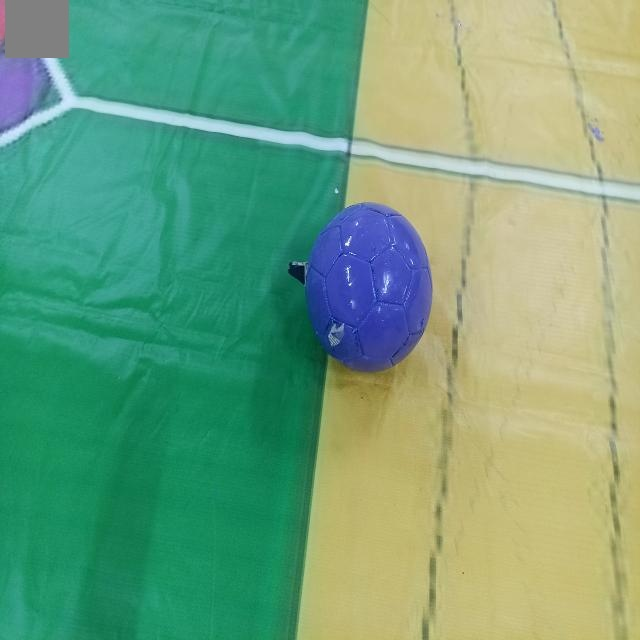purple_ball: (310, 203, 428, 374)
